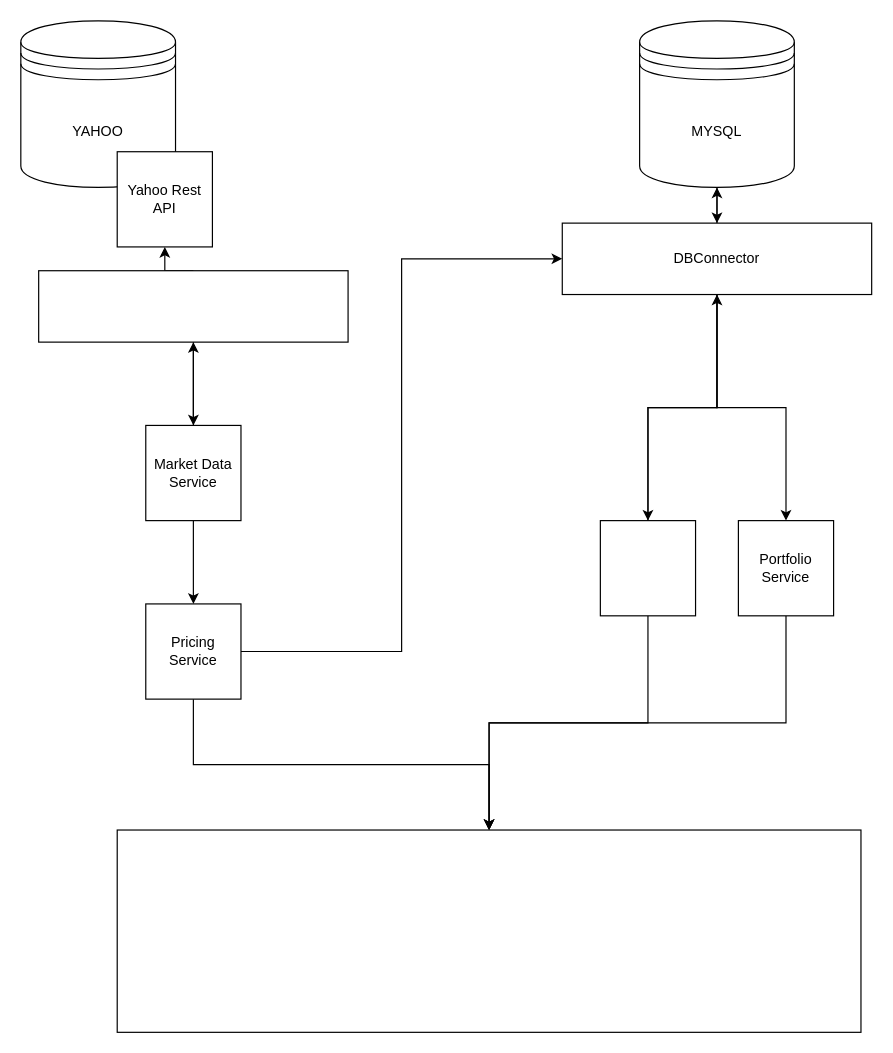
This 893x1053 diagram has some shape labels left out. Here are the shapes that lost their labels. From the top down, the centre of each, then its label:
[192,306]: YahooAPIClient
[647,567]: Instrument Service
[488,930]: Interface Layer
